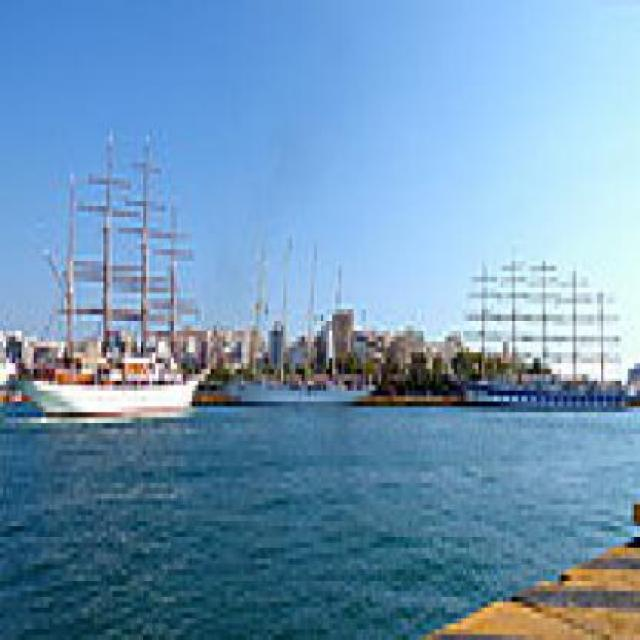cruise: (11, 104, 223, 430)
